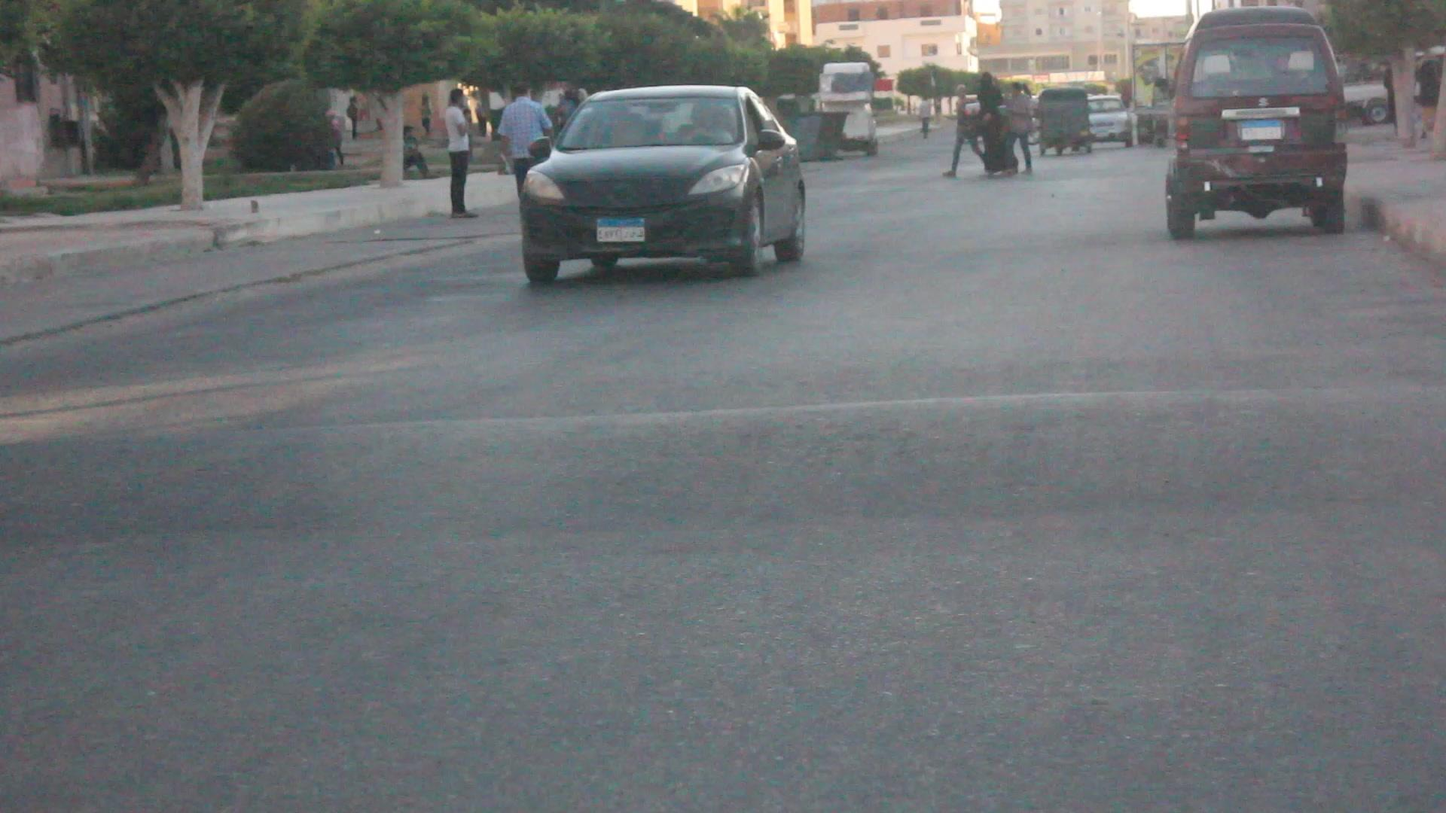Bump: (0, 405, 1446, 519)
